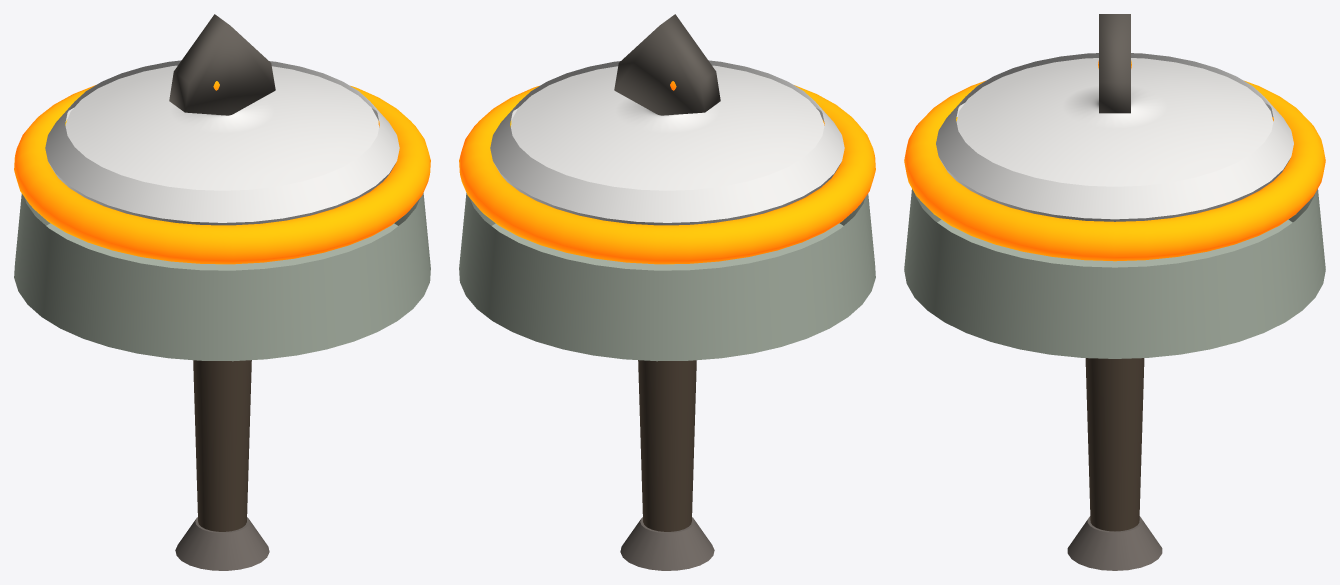
The model's file is poi-water.glb.
3 renders of one model, left to right at view 1: azimuth 30°, elevation 25°; view 2: azimuth 150°, elevation 25°; view 3: azimuth 270°, elevation 25°, orthographic.
Parts seen in each view (by area): view 1: water_head, water_plate_dome, water_ring, water_plate_bevel, water_stem, water_drop, water_foot, water_collar, water_plate_wall; view 2: water_head, water_plate_dome, water_ring, water_plate_bevel, water_stem, water_drop, water_foot, water_collar, water_plate_wall; view 3: water_head, water_plate_dome, water_ring, water_plate_bevel, water_stem, water_foot, water_drop, water_collar, water_plate_wall.
Boxes of the visible parts, x1,y1,x2,y2 form: water_head: (14, 193, 430, 361); water_plate_dome: (65, 65, 378, 190); water_ring: (14, 85, 430, 264); water_plate_bevel: (45, 60, 399, 222); water_stem: (193, 360, 251, 531); water_drop: (169, 14, 275, 115); water_foot: (175, 517, 269, 570); water_collar: (135, 256, 309, 270); water_plate_wall: (49, 108, 395, 225); water_head: (459, 193, 875, 361); water_plate_dome: (511, 65, 824, 190); water_ring: (459, 85, 875, 264); water_plate_bevel: (490, 60, 844, 222); water_stem: (638, 360, 696, 531); water_drop: (614, 14, 720, 115); water_foot: (620, 517, 714, 570); water_collar: (580, 256, 754, 270); water_plate_wall: (494, 108, 840, 225); water_head: (904, 189, 1325, 358); water_plate_dome: (956, 58, 1273, 186); water_ring: (904, 80, 1325, 261); water_plate_bevel: (936, 53, 1293, 219); water_stem: (1085, 358, 1144, 531); water_foot: (1067, 516, 1162, 570); water_drop: (1099, 14, 1130, 113); water_collar: (1026, 253, 1203, 267); water_plate_wall: (939, 103, 1290, 221).
Size of the model in its own units: 0.796 by 1.12 by 0.796.
